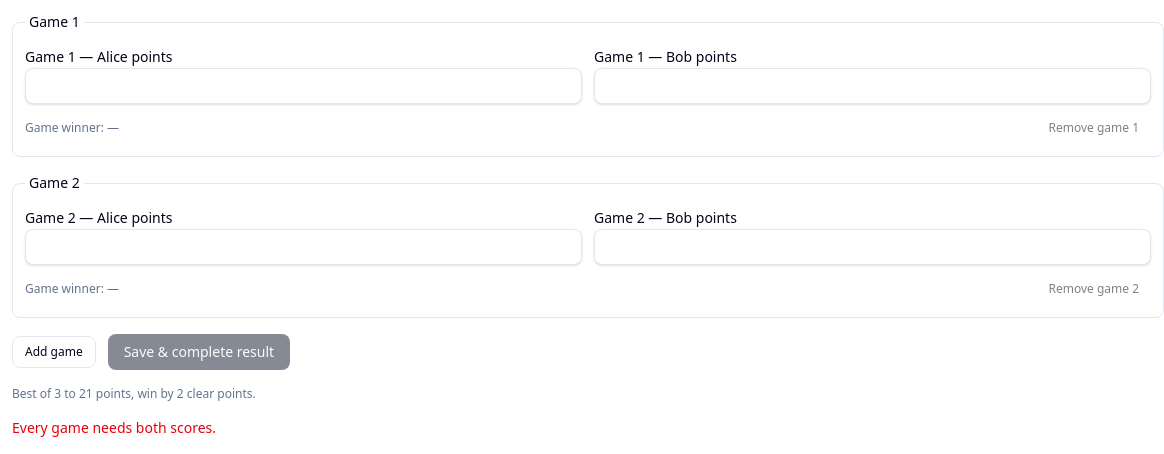
Test: MatchScoring › accepts a deciding game past 30 at the round target (no ceiling)
The width and height of the screenshot is (1164, 454).
Step 1. Type "31" into the number field labelled "Game 1 — Alice points" → [304, 86], box [25, 68, 582, 104]
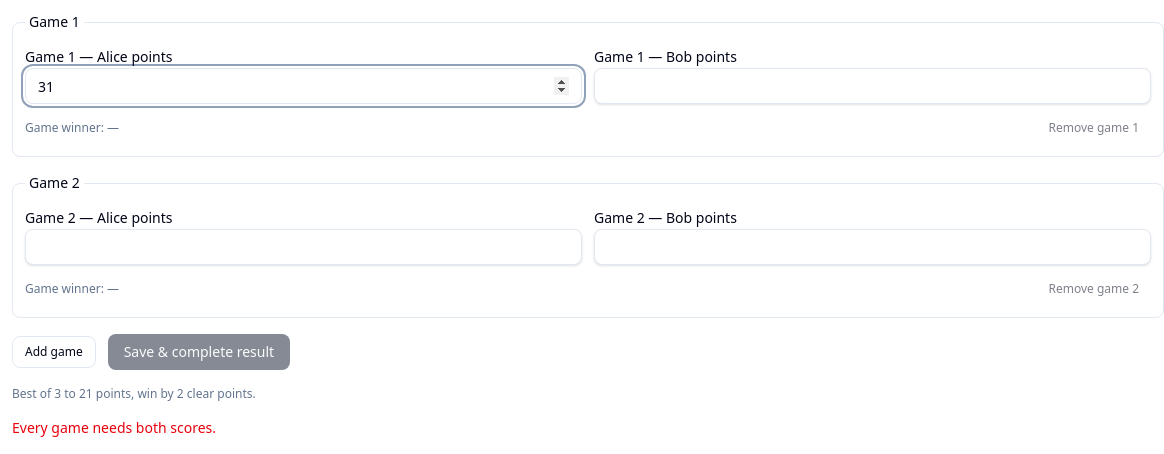
Step 2. Type "29" into the number field labelled "Game 1 — Bob points" → [872, 86], box [594, 68, 1151, 104]
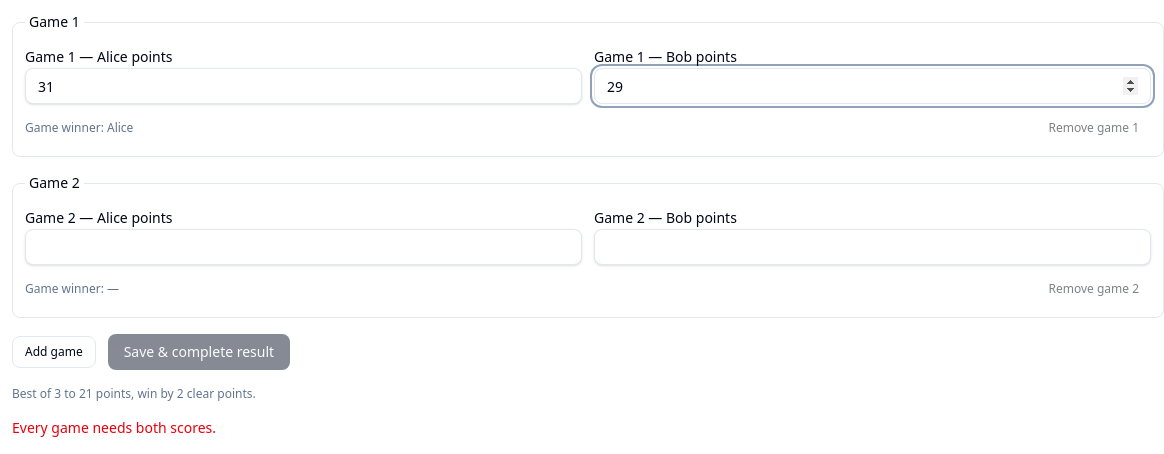
Step 3. Type "21" into the number field labelled "Game 2 — Alice points" → [304, 247], box [25, 229, 582, 265]
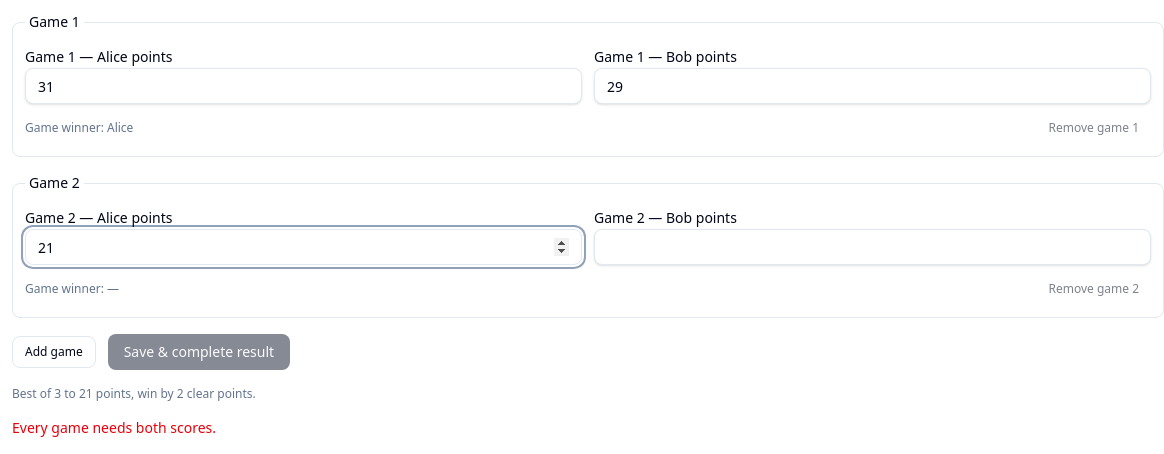
Step 4. Type "18" into the number field labelled "Game 2 — Bob points" → [872, 247], box [594, 229, 1151, 265]
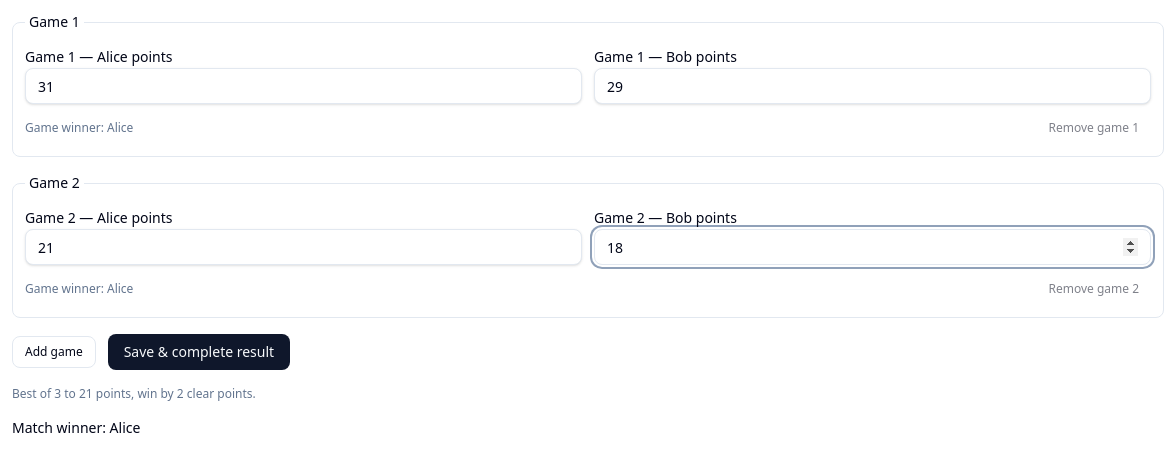
Result: the text with test id "match-winner" reads "Match winner: Alice" at [12, 418, 140, 437]
Result: the message with test id "match-score-error" is gone
